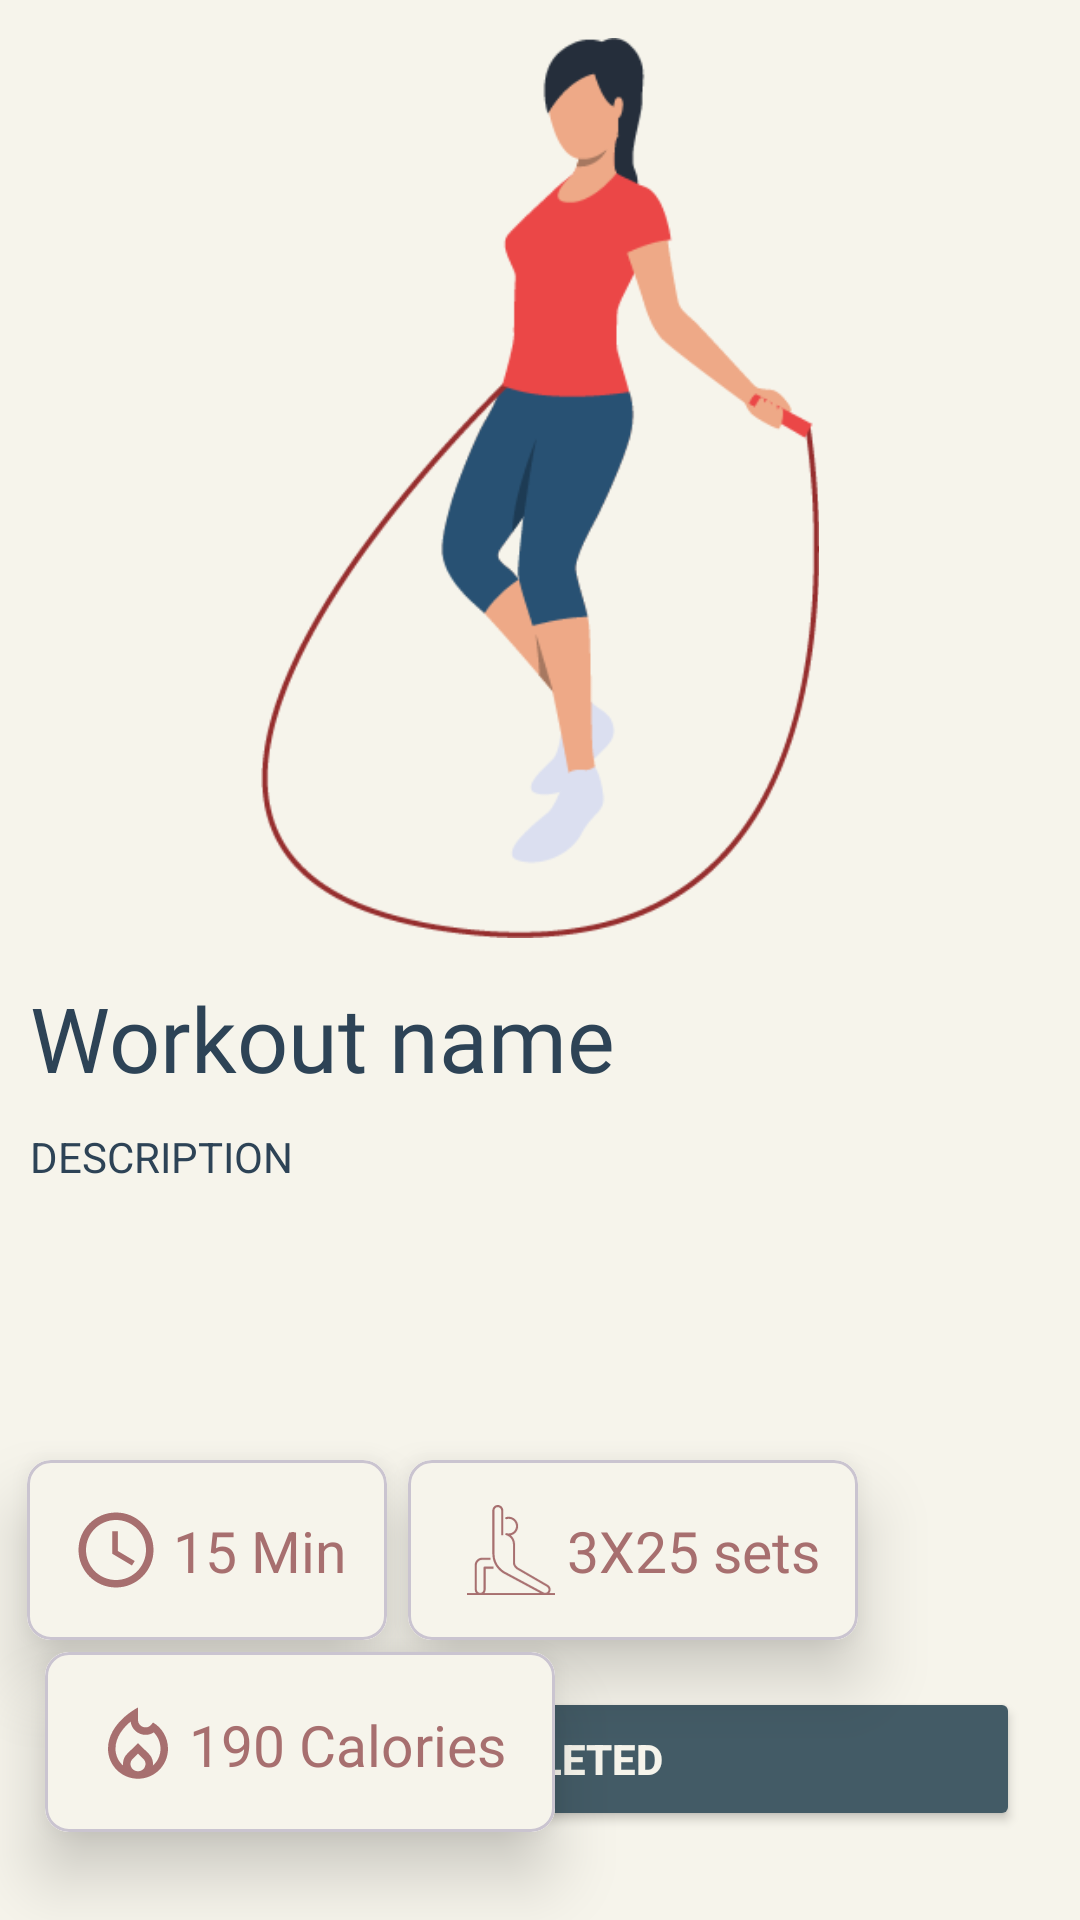

Named icons in this screenshot (1080×1920) and their bounding boxes, (x1,y1,x2,y2):
time: (78,1512,154,1588)
